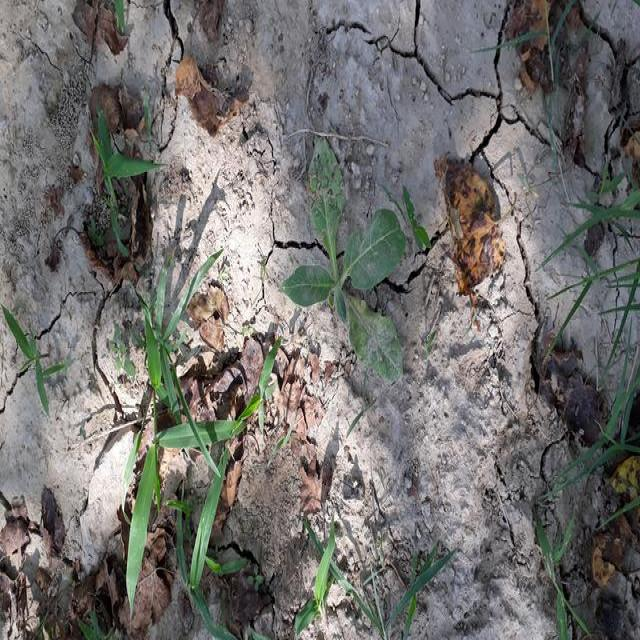crop: (276, 128, 418, 385)
